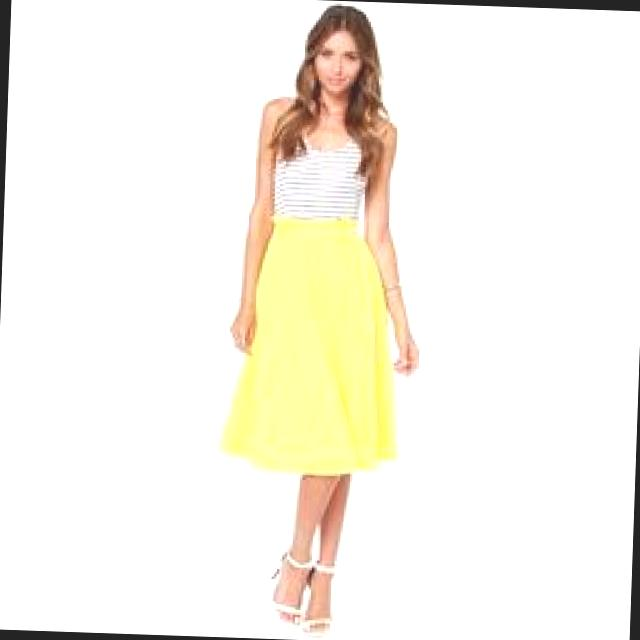Tshirt: (272, 98, 369, 222)
skirt: (218, 214, 408, 478)
